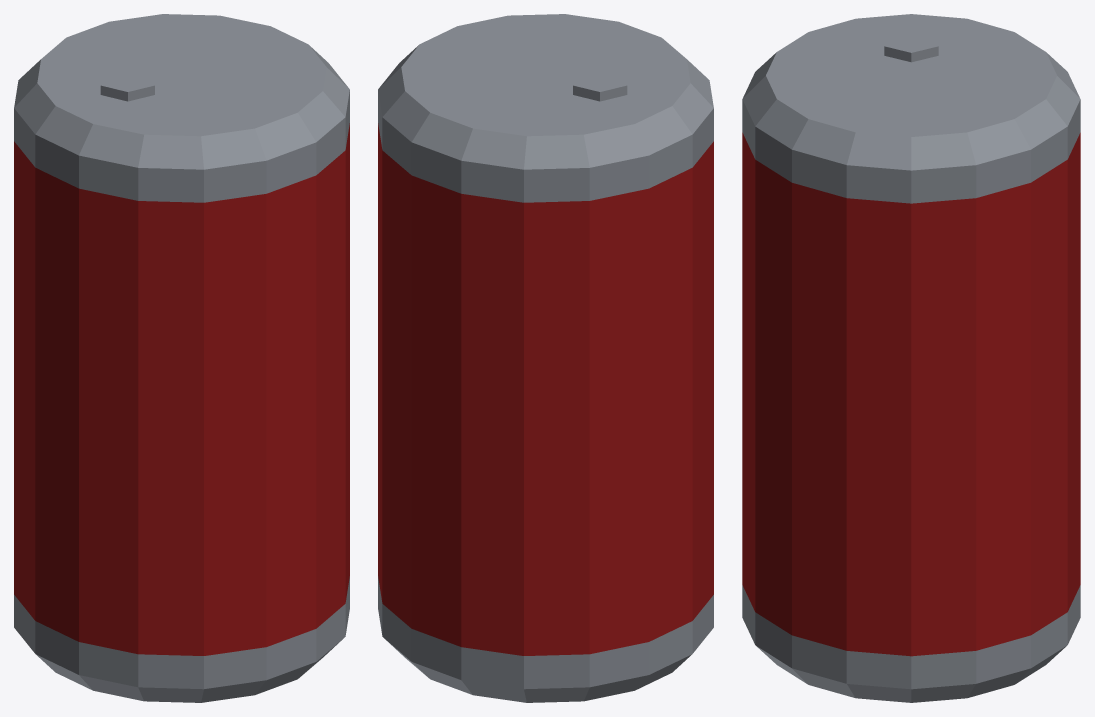
Rendered from Can.obj.
3 views of the same model, side by side, from view 1: azimuth 30°, elevation 25°; view 2: azimuth 150°, elevation 25°; view 3: azimuth 270°, elevation 25° (orthographic).
Parts seen in each view (by area): view 1: Paint, Steel; view 2: Paint, Steel; view 3: Paint, Steel.
Boxes of the visible parts, left/top/right/bottom form: Paint: left=14, top=123, right=349, bottom=655; Steel: left=14, top=14, right=349, bottom=702; Paint: left=378, top=123, right=713, bottom=655; Steel: left=378, top=14, right=713, bottom=702; Paint: left=742, top=132, right=1080, bottom=656; Steel: left=742, top=14, right=1080, bottom=702.
Size of the model in its own units: 0.065 by 0.122 by 0.065.
